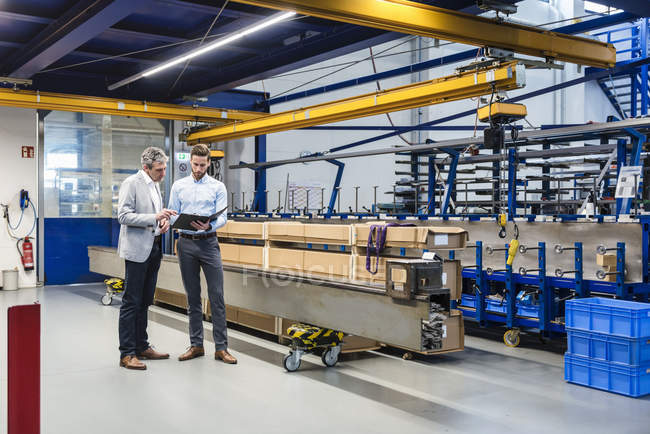person: (170, 143, 238, 364), (116, 147, 178, 370)
